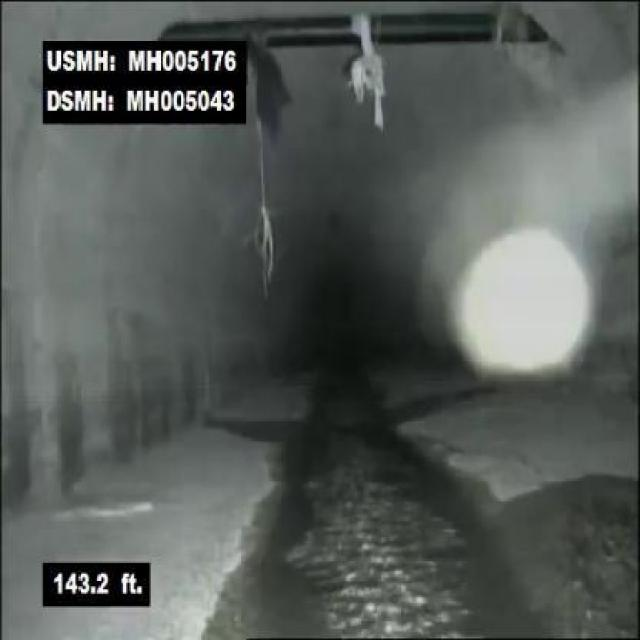Utility intrusion: (254, 3, 574, 55)
